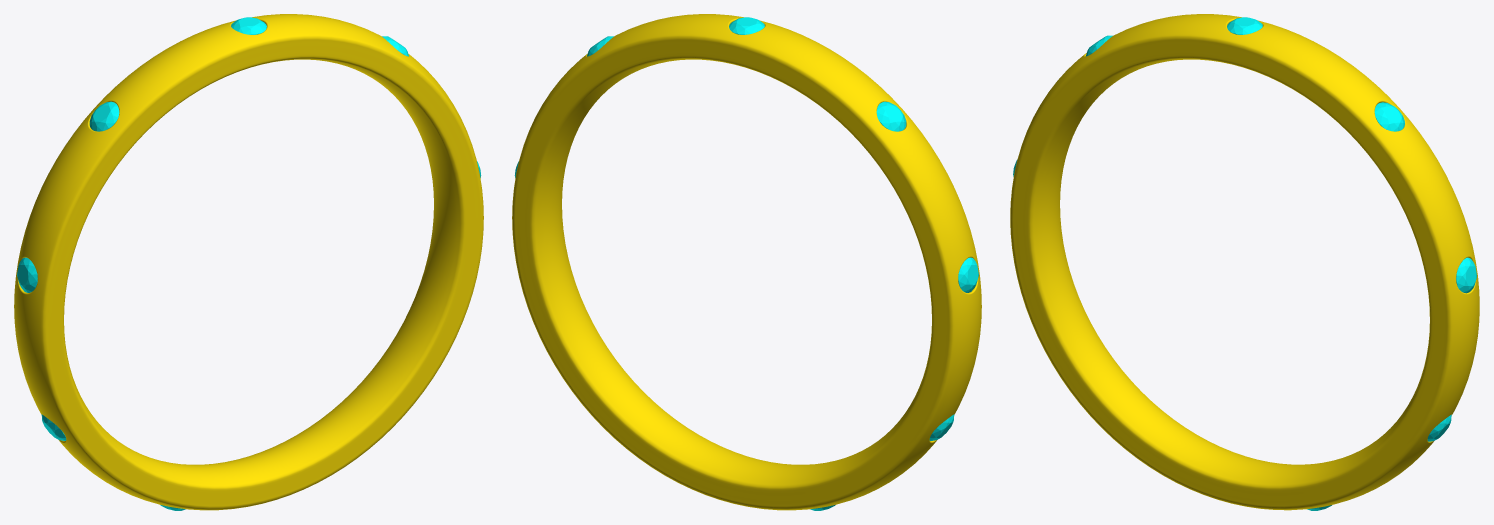
Rendered from et_9_diamods.glb.
3 renders of one model, left to right at view 1: azimuth 30°, elevation 25°; view 2: azimuth 150°, elevation 25°; view 3: azimuth 330°, elevation 25°, orthographic.
Visible parts, largest first — view 1: ET-9Diamods.3dm; view 2: ET-9Diamods.3dm; view 3: ET-9Diamods.3dm.
Boxes of the visible parts, x1=… form: ET-9Diamods.3dm: x1=14, y1=14, x2=483, y2=510; ET-9Diamods.3dm: x1=512, y1=14, x2=981, y2=510; ET-9Diamods.3dm: x1=1010, y1=14, x2=1479, y2=510.
Bounding box in the file's own units: 2.81 × 2.82 × 0.3162.
